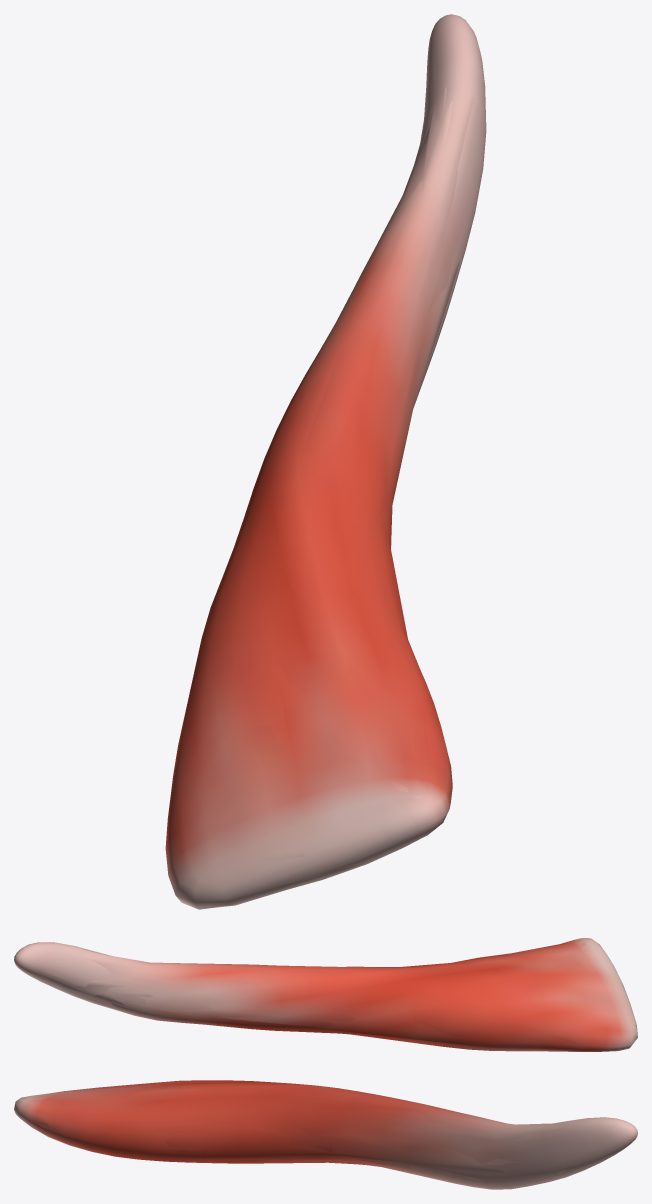
File: L External Obturator.fbx
The picture shows the model from 3 angles, top to bottom: view 1: azimuth 30°, elevation 25°; view 2: azimuth 150°, elevation 25°; view 3: azimuth 270°, elevation 25°; orthographic projection. The views are drawn at different scales.
Visible parts, largest first — view 1: L External Obturator, L External Obturator low; view 2: L External Obturator, L External Obturator low; view 3: L External Obturator low, L External Obturator.
Part boxes in pixels (<box>): L External Obturator: <box>165,14,486,909</box>; L External Obturator low: <box>169,22,485,908</box>; L External Obturator: <box>14,938,637,1051</box>; L External Obturator low: <box>32,938,636,1051</box>; L External Obturator low: <box>15,1080,611,1188</box>; L External Obturator: <box>14,1080,637,1189</box>.
Size of the model in its own units: 13.07 by 6 by 16.9.
